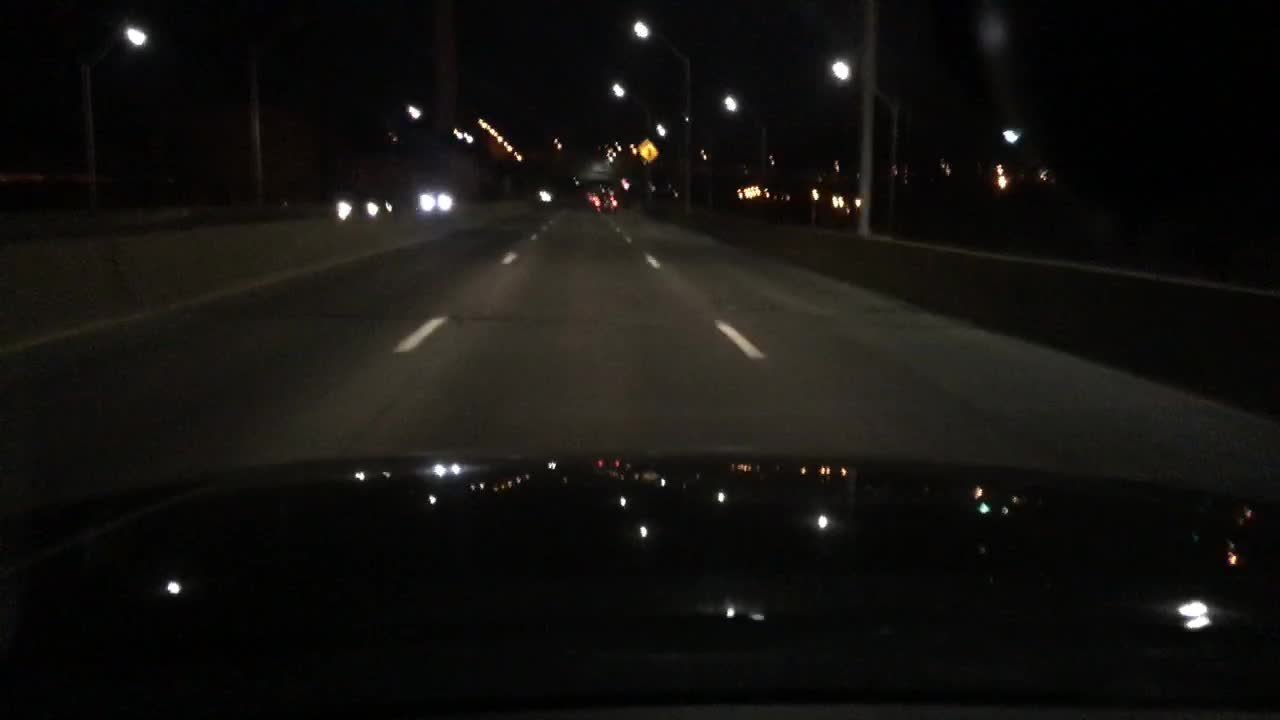car: (330, 192, 395, 223), (412, 187, 457, 219), (592, 192, 619, 212)
traffic sign: (634, 138, 662, 163)
